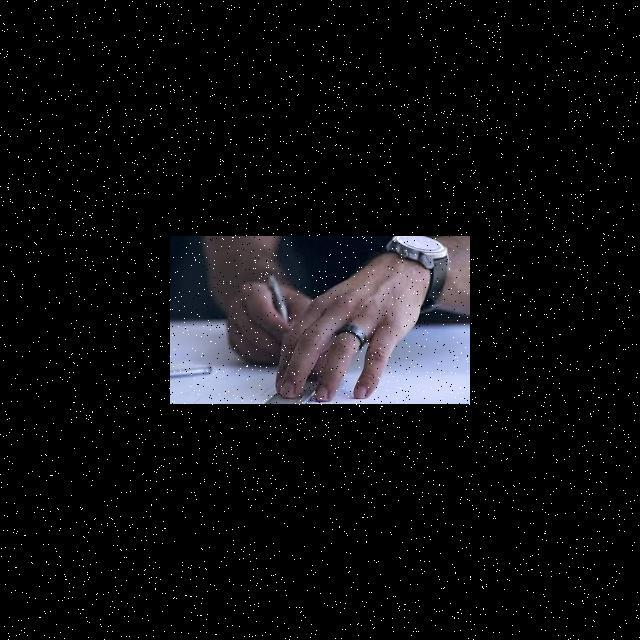watch: (380, 233, 463, 315)
